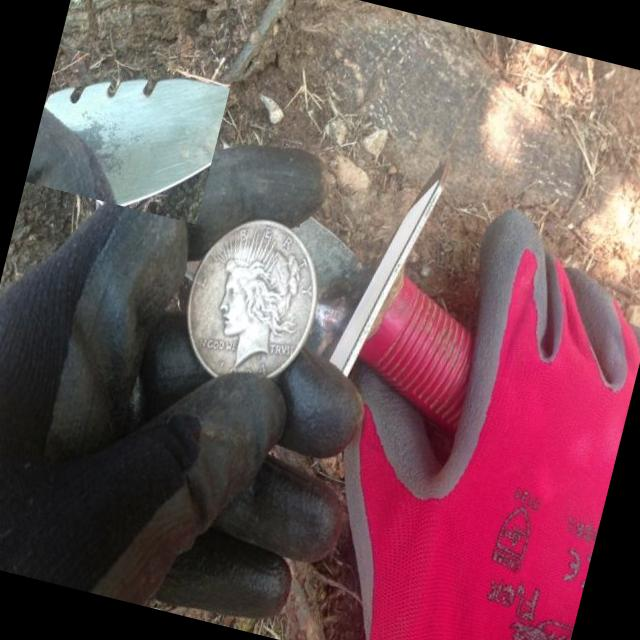Knife: (293, 167, 472, 432), (44, 80, 229, 206)
